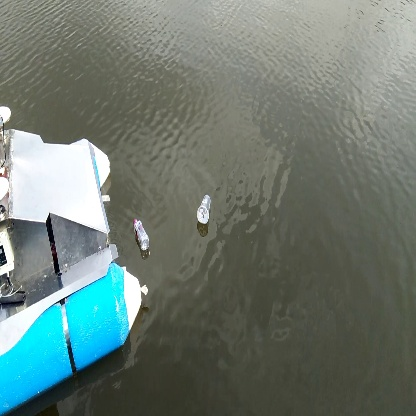bottle: (131, 215, 153, 252), (195, 193, 214, 224)
